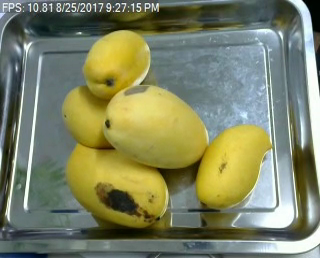Mango: (102, 83, 209, 167), (66, 140, 168, 226), (197, 121, 273, 210), (80, 30, 152, 96), (61, 86, 123, 151)
